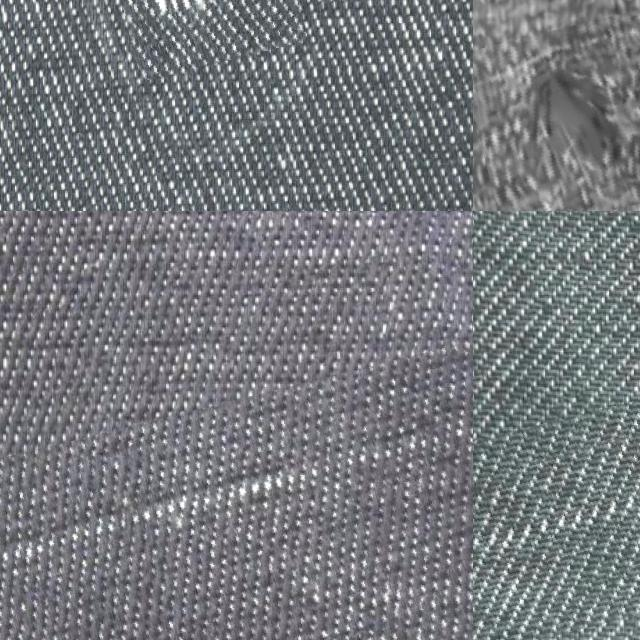Thread_other: (0, 365, 473, 640), (473, 369, 640, 640), (120, 0, 302, 73)
seam: (473, 16, 640, 211)
